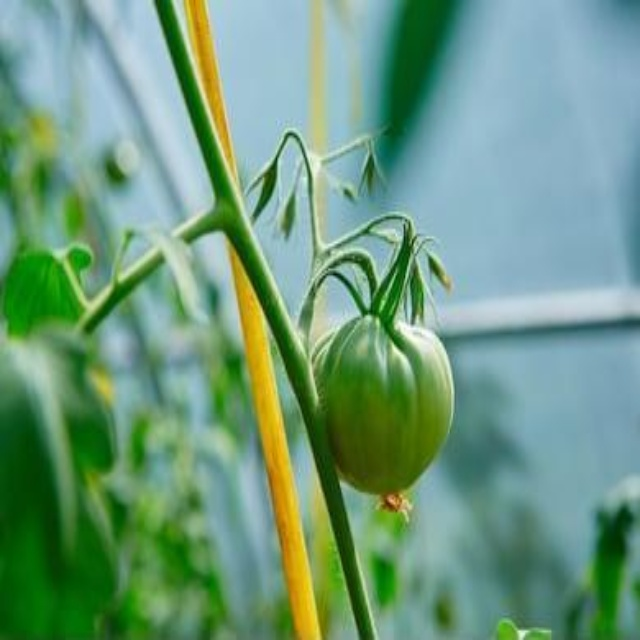tomato: (303, 308, 463, 509)
